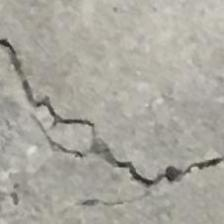Crack: (0, 42, 220, 190)
